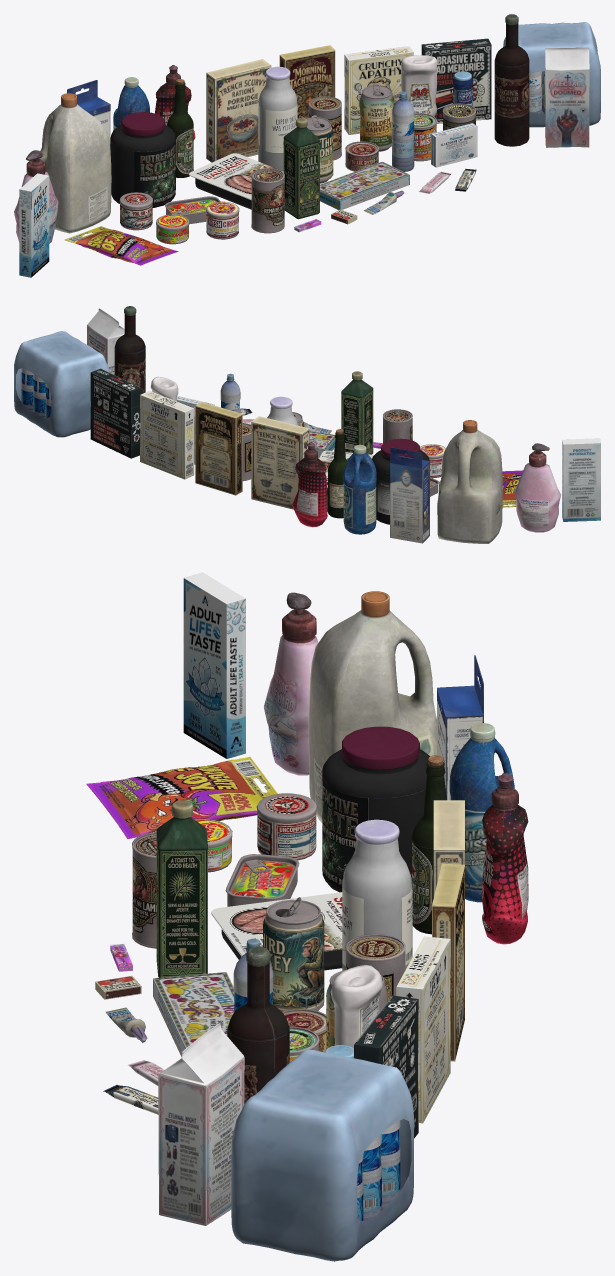
File: almacen.glb
3 renders of one model, top to bottom at view 1: azimuth 30°, elevation 25°; view 2: azimuth 150°, elevation 25°; view 3: azimuth 270°, elevation 25°, orthographic. The views are drawn at different scales.
Parts seen in each view (by area): view 1: SM_Bleach_01, SM_Protein_Jar_01, SM_Porridge_01, SM_Juice_Carton_01, SM_Bottles_Pack_01, SM_Wine_Bottle_01, SM_Detergent_Powder_02, SM_Olive_Oil_01, SM_Cereal_01, SM_Milk_Bottle_01, SM_Salt_02, SM_Coffee_Box_01 (+24 smaller); view 2: SM_Bottles_Pack_01, SM_Bleach_01, SM_Porridge_01, SM_Cereal_01, SM_Coffee_Box_01, SM_Detergent_Powder_02, SM_Pasta_01, SM_Salt_02, SM_Detergent_Liquid_01, SM_Detergent_Powder_01, SM_Olive_Oil_01, SM_Dishwashing_Liquid_01 (+12 smaller); view 3: SM_Bottles_Pack_01, SM_Bleach_01, SM_Juice_Carton_01, SM_Protein_Jar_01, SM_Salt_02, SM_Snack_01, SM_Olive_Oil_01, SM_Milk_Bottle_01, SM_Dishwashing_Liquid_01, SM_Detergent_Liquid_01, SM_Cereal_01, SM_Beer_Can_01 (+17 smaller).
Boxes of the visible parts, left/top/right/bottom form: SM_Bleach_01: left=39, top=93, right=111, bottom=233; SM_Protein_Jar_01: left=110, top=112, right=175, bottom=207; SM_Porridge_01: left=206, top=59, right=271, bottom=162; SM_Juice_Carton_01: left=545, top=47, right=589, bottom=147; SM_Bottles_Pack_01: left=503, top=22, right=600, bottom=127; SM_Wine_Bottle_01: left=494, top=14, right=529, bottom=146; SM_Detergent_Powder_02: left=421, top=38, right=491, bottom=123; SM_Olive_Oil_01: left=283, top=117, right=319, bottom=219; SM_Cereal_01: left=344, top=46, right=413, bottom=134; SM_Milk_Bottle_01: left=258, top=66, right=297, bottom=171; SM_Salt_02: left=19, top=173, right=49, bottom=277; SM_Coffee_Box_01: left=279, top=45, right=335, bottom=118; SM_Bottles_Pack_01: left=14, top=331, right=109, bottom=437; SM_Bleach_01: left=437, top=420, right=502, bottom=543; SM_Porridge_01: left=251, top=416, right=309, bottom=509; SM_Cereal_01: left=140, top=391, right=194, bottom=479; SM_Coffee_Box_01: left=195, top=402, right=242, bottom=495; SM_Detergent_Powder_02: left=90, top=368, right=141, bottom=458; SM_Pasta_01: left=390, top=447, right=429, bottom=543; SM_Salt_02: left=562, top=438, right=600, bottom=521; SM_Detergent_Liquid_01: left=514, top=443, right=561, bottom=532; SM_Detergent_Powder_01: left=343, top=444, right=376, bottom=534; SM_Olive_Oil_01: left=341, top=371, right=373, bottom=454; SM_Dishwashing_Liquid_01: left=292, top=442, right=327, bottom=527; SM_Bottles_Pack_01: left=231, top=1049, right=413, bottom=1261; SM_Bleach_01: left=308, top=591, right=436, bottom=822; SM_Juice_Carton_01: left=158, top=1023, right=244, bottom=1225; SM_Protein_Jar_01: left=322, top=726, right=430, bottom=892; SM_Salt_02: left=183, top=572, right=245, bottom=758; SM_Snack_01: left=86, top=756, right=277, bottom=838; SM_Olive_Oil_01: left=156, top=800, right=207, bottom=977; SM_Milk_Bottle_01: left=342, top=819, right=412, bottom=970; SM_Dishwashing_Liquid_01: left=481, top=772, right=528, bottom=944; SM_Detergent_Liquid_01: left=264, top=592, right=318, bottom=775; SM_Cereal_01: left=396, top=936, right=450, bottom=1123; SM_Beer_Can_01: left=263, top=897, right=324, bottom=1011.
Bounding box in the file's own units: 1.61 × 0.311 × 0.5582.
2 materials, 2 textured.
